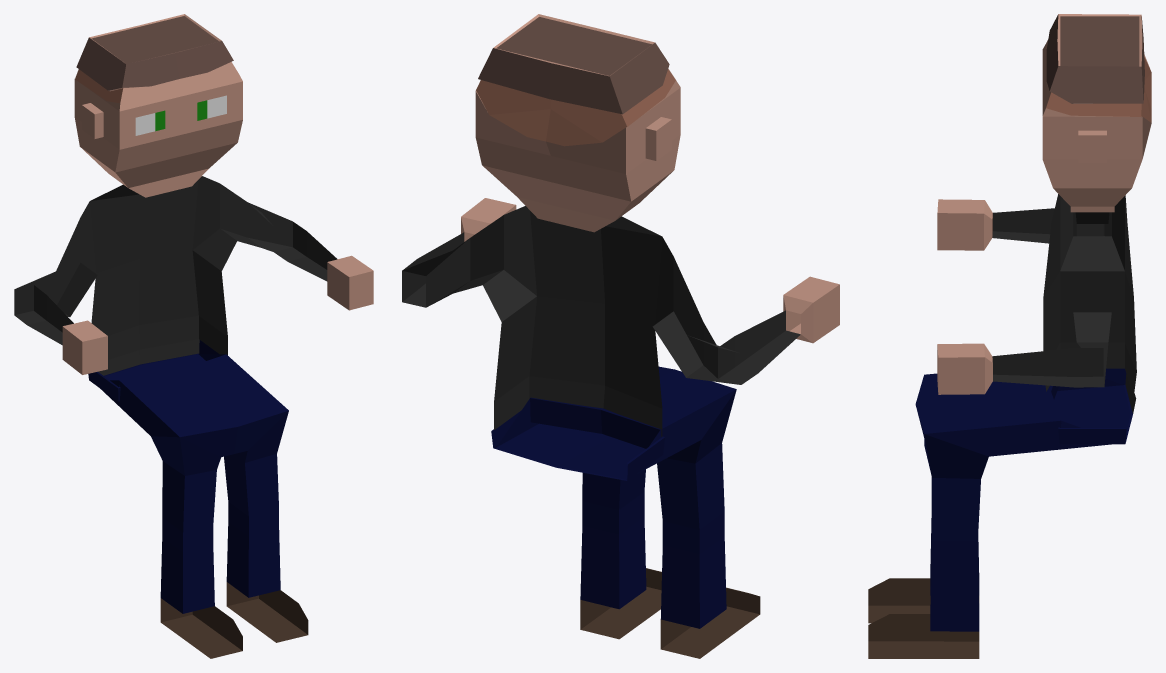
File: polyman.glb
The picture shows the model from 3 angles, left to right: view 1: azimuth 30°, elevation 25°; view 2: azimuth 150°, elevation 25°; view 3: azimuth 270°, elevation 25°; orthographic projection. The views are drawn at different scales.
Visible parts, largest first — view 1: Cube; view 2: Cube; view 3: Cube.
Boxes of the visible parts, left/top/right/bottom form: Cube: left=14, top=14, right=373, bottom=658; Cube: left=402, top=14, right=839, bottom=658; Cube: left=868, top=14, right=1151, bottom=658.
Size of the model in its own units: 1.4 by 2.45 by 1.06.
